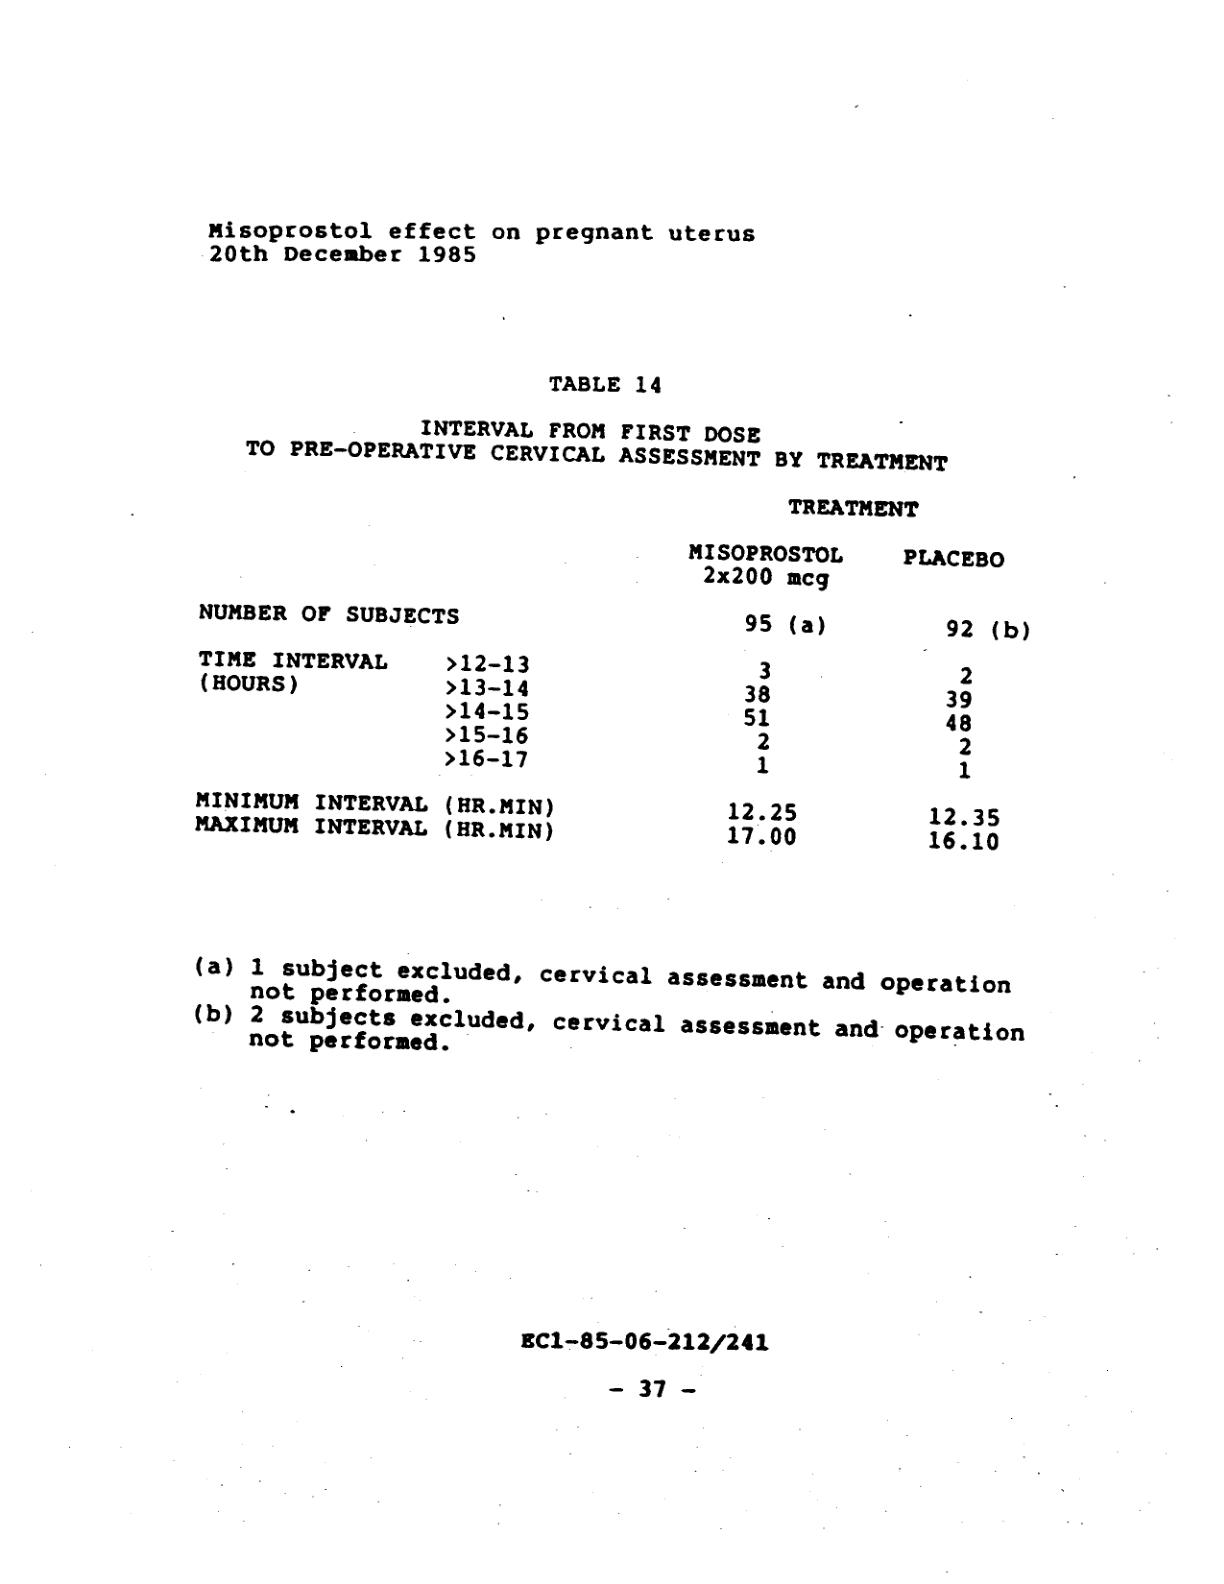nolines: (193, 536, 1031, 850)
